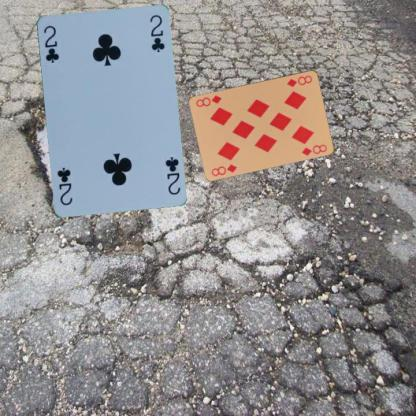2c: (162, 154, 181, 196), (41, 23, 60, 64)
8d: (284, 72, 313, 88), (209, 162, 238, 178)
